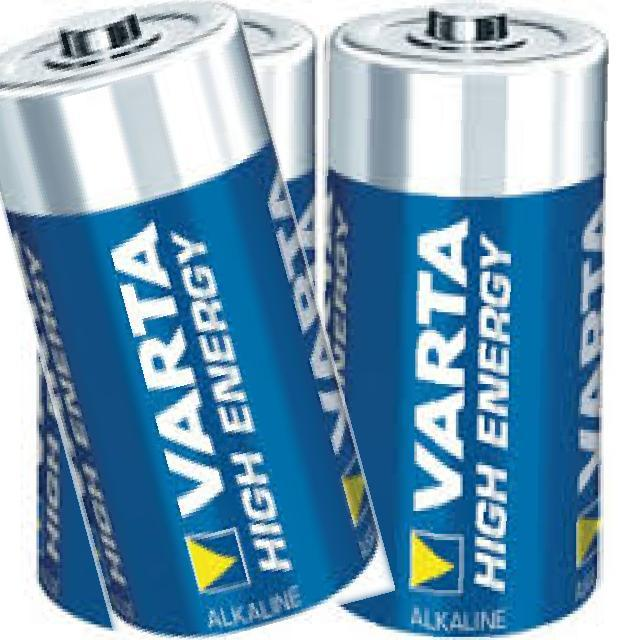Battery: (2, 0, 384, 639), (326, 0, 608, 640), (35, 331, 114, 634), (243, 7, 322, 302)
